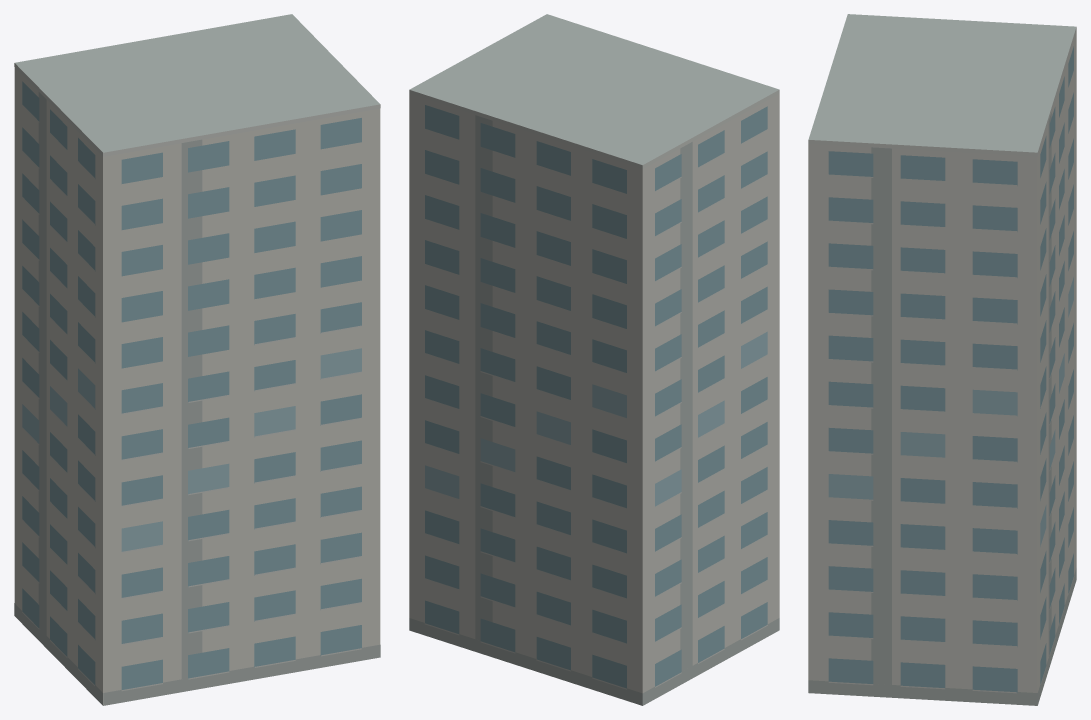
File: residential-67f4360d-fa9e-42e3-a81d-a9a5476c5bb1.glb
3 views of the same model, side by side, from view 1: azimuth 30°, elevation 25°; view 2: azimuth 150°, elevation 25°; view 3: azimuth 270°, elevation 25° (orthographic). The views are drawn at different scales.
Visible parts, largest first — view 1: residential-67f4360d-fa9e-42e3-a81d-a9a5476c5bb1.tmp; view 2: residential-67f4360d-fa9e-42e3-a81d-a9a5476c5bb1.tmp; view 3: residential-67f4360d-fa9e-42e3-a81d-a9a5476c5bb1.tmp.
Part boxes in pixels (<box>): residential-67f4360d-fa9e-42e3-a81d-a9a5476c5bb1.tmp: <box>14,14,380,705</box>; residential-67f4360d-fa9e-42e3-a81d-a9a5476c5bb1.tmp: <box>409,14,779,705</box>; residential-67f4360d-fa9e-42e3-a81d-a9a5476c5bb1.tmp: <box>808,14,1076,705</box>.
Bounding box in the file's own units: 17.74 × 33 × 14.51.
